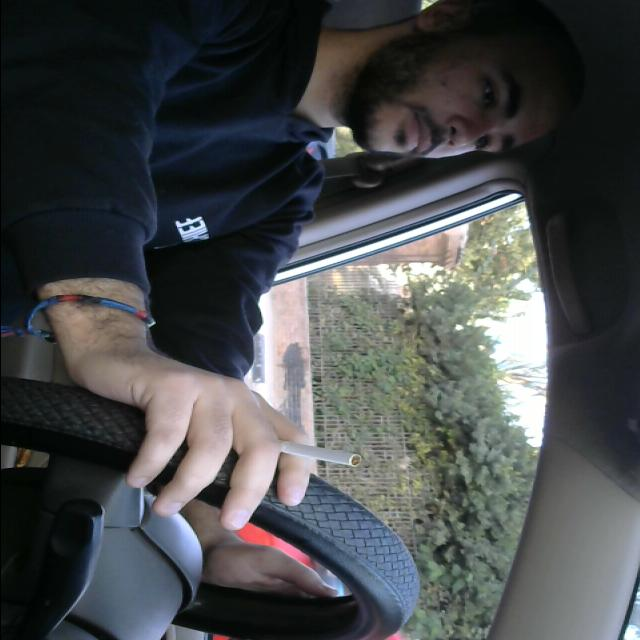smoking: (234, 434, 368, 468)
